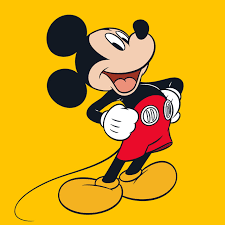mickey: (46, 14, 185, 216)
